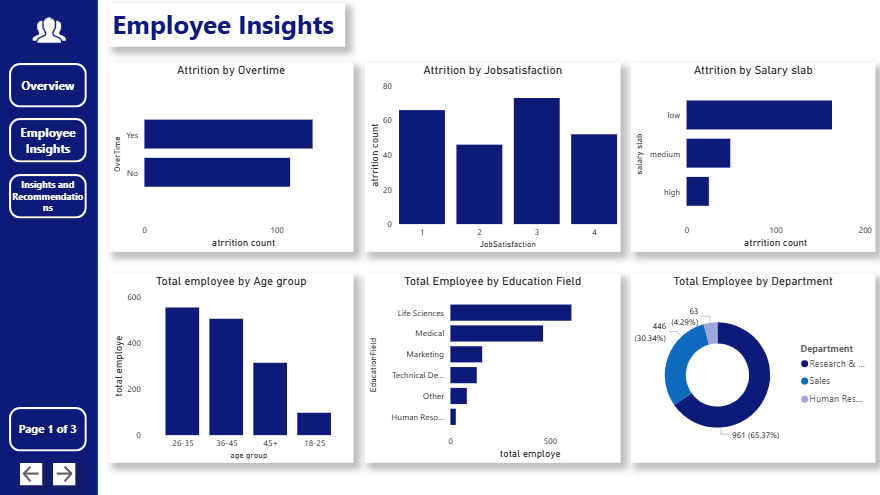

Layout of this report page (visuals, bound fields, positions):
{"tool":"powerbi","page":{"name":"employee insights","canvas":[1280,720],"ordinal":1},"visuals":[{"type":"image","box":[42,26,64,48],"z":0,"group":"g1"},{"type":"image","box":[42,26,64,48],"z":0,"group":"g2"},{"type":"barChart","title":"Attrition by Overtime","fields":{"Y":["hr ibm.atrrition count"],"Category":["hr ibm.OverTime"]},"box":[160,96,352,272],"z":0},{"type":"columnChart","title":"Attrition by Jobsatisfaction","fields":{"Y":["hr ibm.atrrition count"],"Category":["hr ibm.JobSatisfaction"]},"box":[528,96,368,272],"z":1000},{"type":"actionButton","box":[80,672,32,32],"z":1000,"group":"g1"},{"type":"actionButton","box":[80,672,32,32],"z":1000,"group":"g2"},{"type":"image","box":[32,16,64,48],"z":2000},{"type":"shape","box":[16,96,112,64],"z":2000,"group":"g1"},{"type":"shape","box":[16,96,112,64],"z":2000,"group":"g2"},{"type":"barChart","title":"Attrition by Salary slab","fields":{"Y":["hr ibm.atrrition count"],"Category":["hr ibm.salary slab"]},"box":[912,96,352,272],"z":3000},{"type":"shape","box":[16,176,112,64],"z":3000,"group":"g1"},{"type":"shape","box":[16,176,112,64],"z":3000,"group":"g2"},{"type":"shape","box":[16,256,112,64],"z":4000,"group":"g1"},{"type":"shape","box":[16,256,112,64],"z":4000,"group":"g2"},{"type":"clusteredColumnChart","title":"Total employee by Age group","fields":{"Category":["hr ibm.age group"],"Y":["hr ibm.total employe"]},"box":[160,400,352,272],"z":4000},{"type":"clusteredBarChart","title":"Total Employee by Education Field","fields":{"Y":["hr ibm.total employe"],"Category":["hr ibm.EducationField"]},"box":[528,400,368,272],"z":5000},{"type":"shape","box":[16,592,112,64],"z":5000,"group":"g1"},{"type":"shape","box":[16,592,112,64],"z":5000,"group":"g2"},{"type":"donutChart","title":"Total Employee by Department","fields":{"Category":["hr ibm.Department"],"Y":["hr ibm.total employe"]},"box":[912,400,352,272],"z":6000},{"type":"textbox","box":[159.8,10.1,339.8,63.4],"z":7000},{"type":"group","id":"g1","title":"Group 1","box":[0,0,144,720],"z":8000},{"type":"group","id":"g2","title":"Group 2","box":[16,26,112,678],"z":9000,"group":"g3"},{"type":"shape","box":[0,0,144,720],"z":9500,"group":"g1"},{"type":"actionButton","box":[32,672,32,32],"z":10000,"group":"g3"},{"type":"group","id":"g3","title":"Group 3","box":[16,26,112,678],"z":10001}]}

Visuals, with their boxes on the page's 1280x720 design canvas (x1, y1, x2, y2). These are canvas units, not pixel positions in the 880x495 screenshot, which may show the page scaled, cropped or inside an application window:
image: {"x1": 42, "y1": 26, "x2": 106, "y2": 74}
image: {"x1": 42, "y1": 26, "x2": 106, "y2": 74}
"Attrition by Overtime" barChart: {"x1": 160, "y1": 96, "x2": 512, "y2": 368}
"Attrition by Jobsatisfaction" columnChart: {"x1": 528, "y1": 96, "x2": 896, "y2": 368}
actionButton: {"x1": 80, "y1": 672, "x2": 112, "y2": 704}
actionButton: {"x1": 80, "y1": 672, "x2": 112, "y2": 704}
image: {"x1": 32, "y1": 16, "x2": 96, "y2": 64}
shape: {"x1": 16, "y1": 96, "x2": 128, "y2": 160}
shape: {"x1": 16, "y1": 96, "x2": 128, "y2": 160}
"Attrition by Salary slab" barChart: {"x1": 912, "y1": 96, "x2": 1264, "y2": 368}
shape: {"x1": 16, "y1": 176, "x2": 128, "y2": 240}
shape: {"x1": 16, "y1": 176, "x2": 128, "y2": 240}
shape: {"x1": 16, "y1": 256, "x2": 128, "y2": 320}
shape: {"x1": 16, "y1": 256, "x2": 128, "y2": 320}
"Total employee by Age group" clusteredColumnChart: {"x1": 160, "y1": 400, "x2": 512, "y2": 672}
"Total Employee by Education Field" clusteredBarChart: {"x1": 528, "y1": 400, "x2": 896, "y2": 672}
shape: {"x1": 16, "y1": 592, "x2": 128, "y2": 656}
shape: {"x1": 16, "y1": 592, "x2": 128, "y2": 656}
"Total Employee by Department" donutChart: {"x1": 912, "y1": 400, "x2": 1264, "y2": 672}
textbox: {"x1": 160, "y1": 10, "x2": 500, "y2": 74}
"Group 1" group: {"x1": 0, "y1": 0, "x2": 144, "y2": 720}
"Group 2" group: {"x1": 16, "y1": 26, "x2": 128, "y2": 704}
shape: {"x1": 0, "y1": 0, "x2": 144, "y2": 720}
actionButton: {"x1": 32, "y1": 672, "x2": 64, "y2": 704}
"Group 3" group: {"x1": 16, "y1": 26, "x2": 128, "y2": 704}
